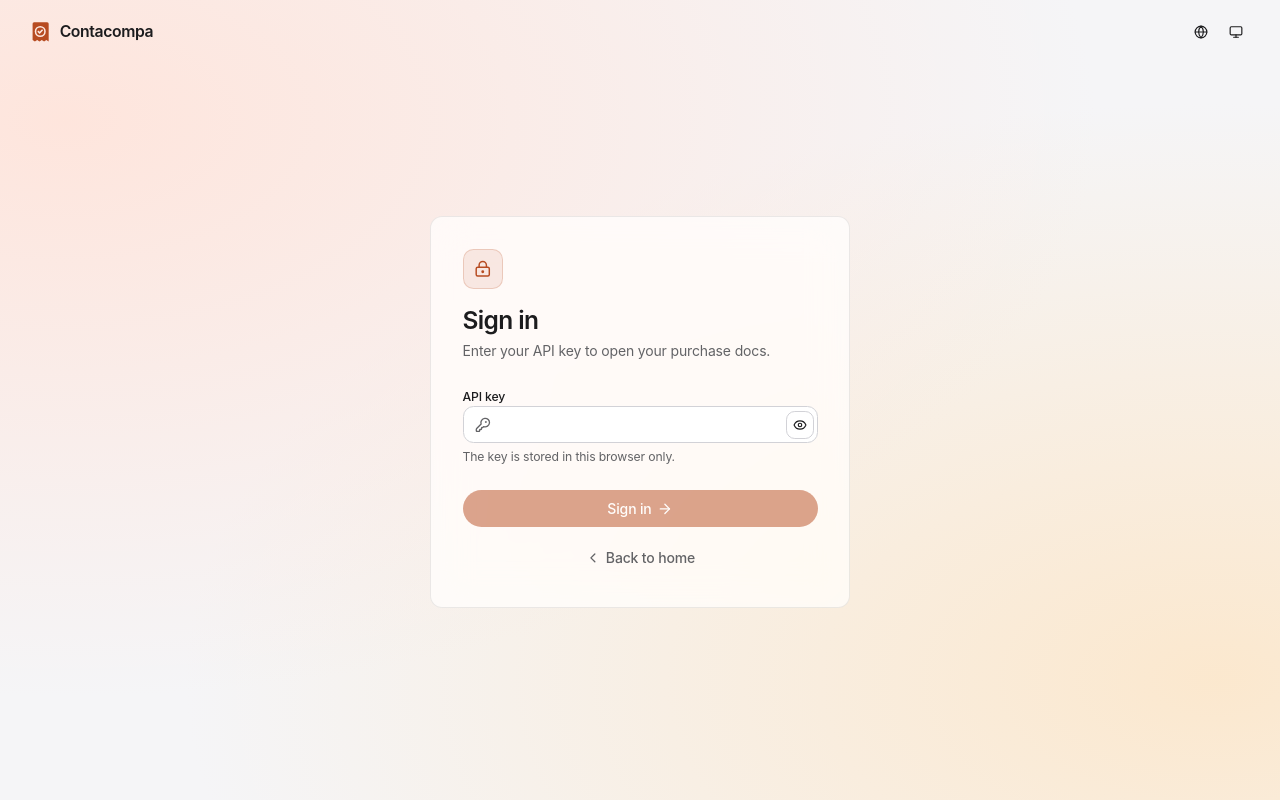
Test: empty keys cannot submit and visibility toggles preserve the entered key
Expected: the button "Sign in" is disabled, [462, 490, 818, 527]
Type "secret" into the password field labelled "API key" at (640, 424), box [462, 406, 818, 443]
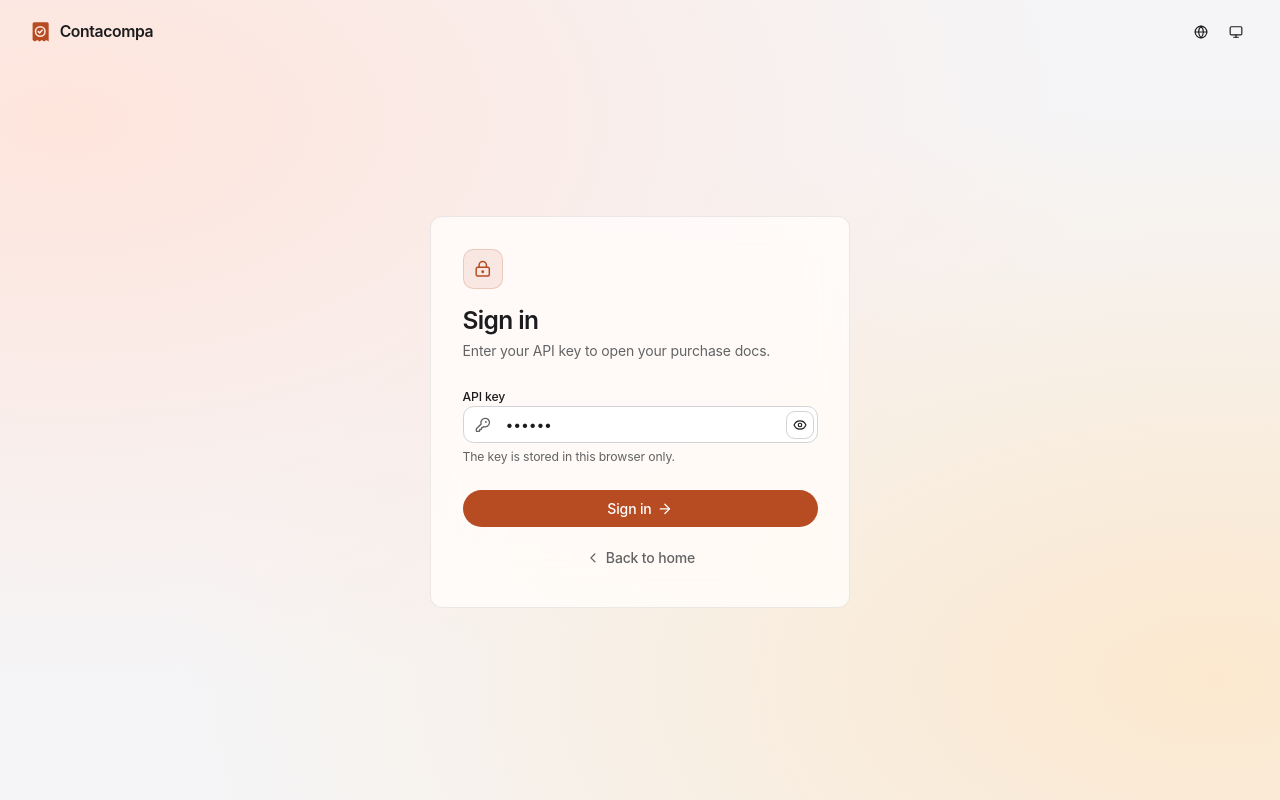
Click the button named "Show key" at (800, 424), box [786, 410, 814, 438]
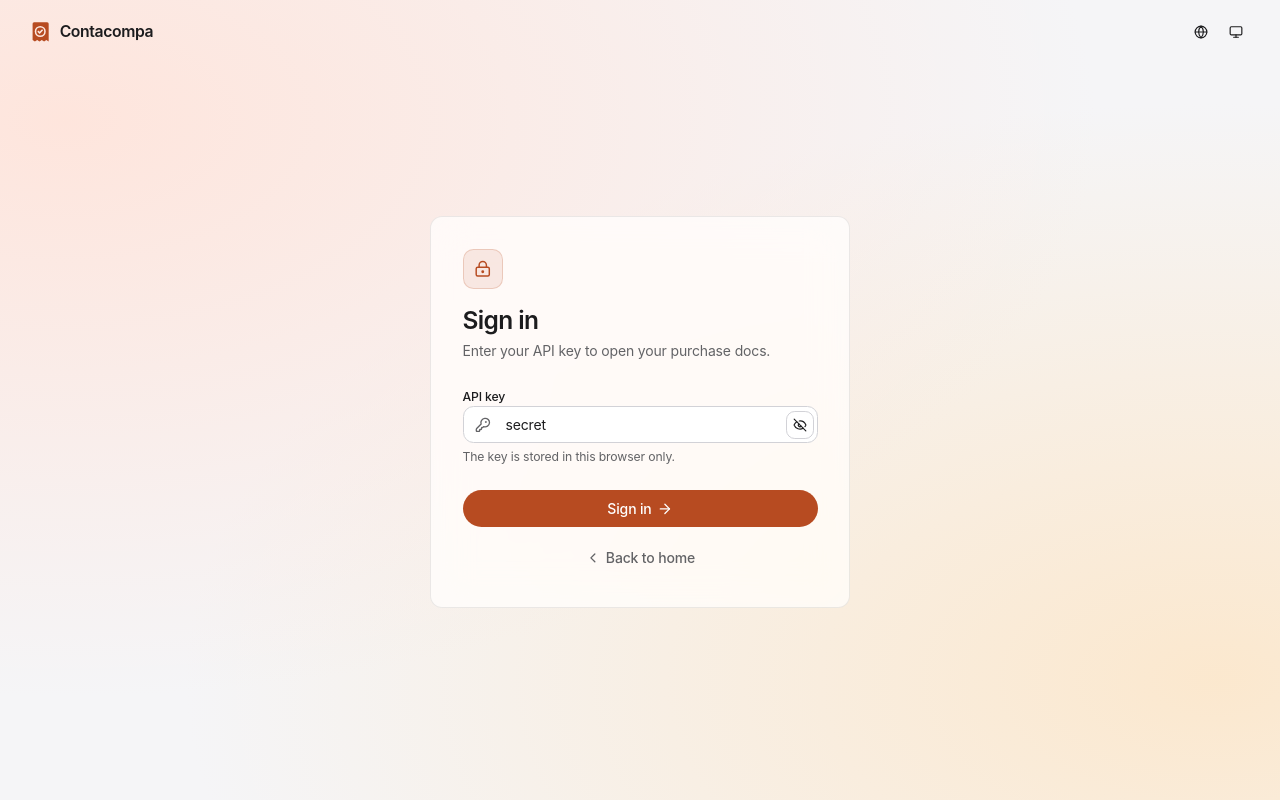
Expected: the field labelled "API key" shows its text, [462, 406, 818, 443]
Click the button named "Hide key" at (800, 424), box [786, 410, 814, 438]
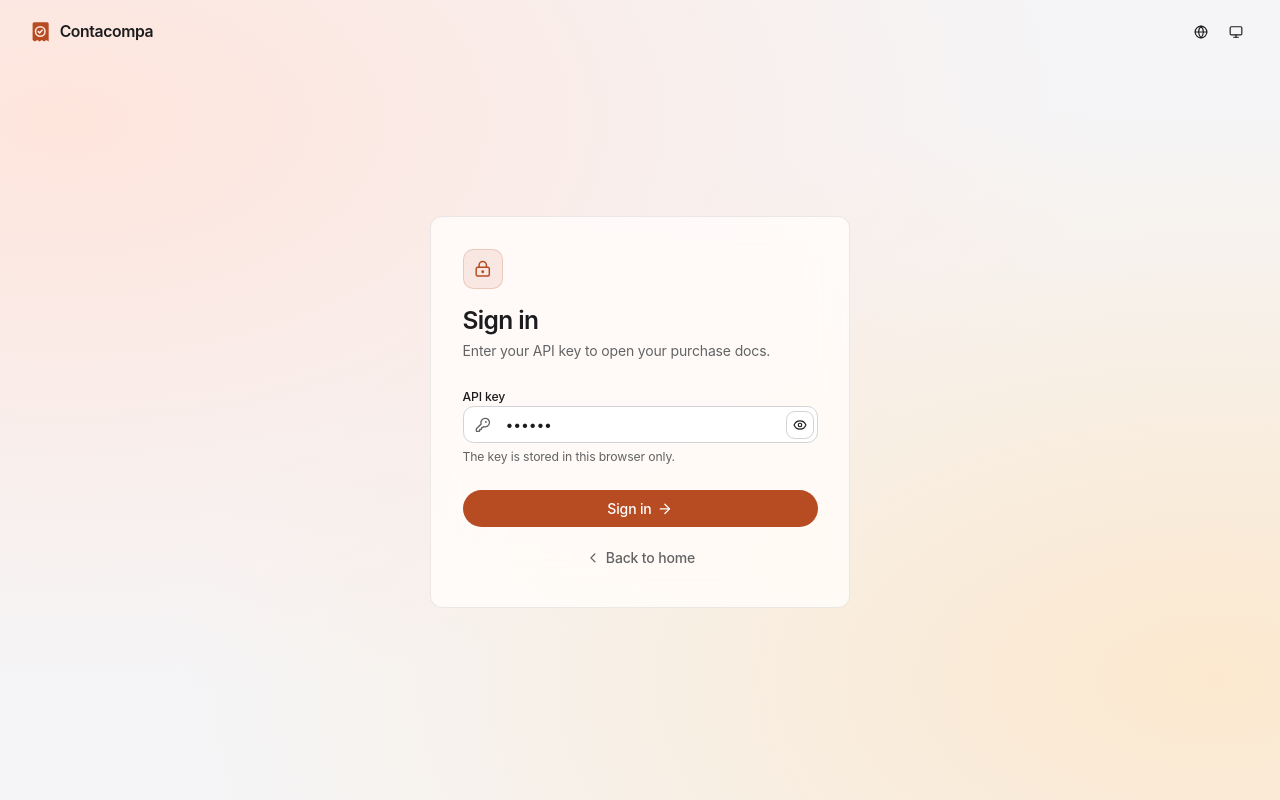
Expected: the password field labelled "API key" hides its text, [462, 406, 818, 443]
